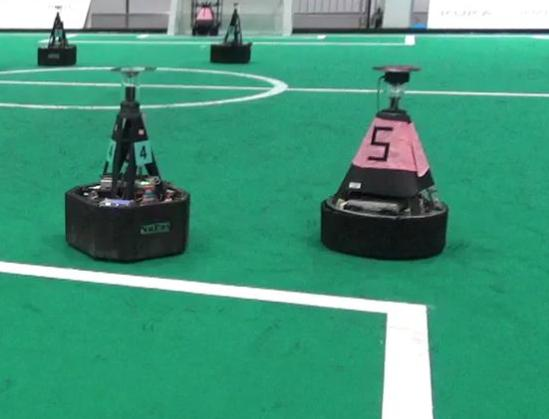robot: (316, 61, 456, 262), (63, 62, 193, 263), (207, 2, 253, 65), (35, 3, 78, 67)
